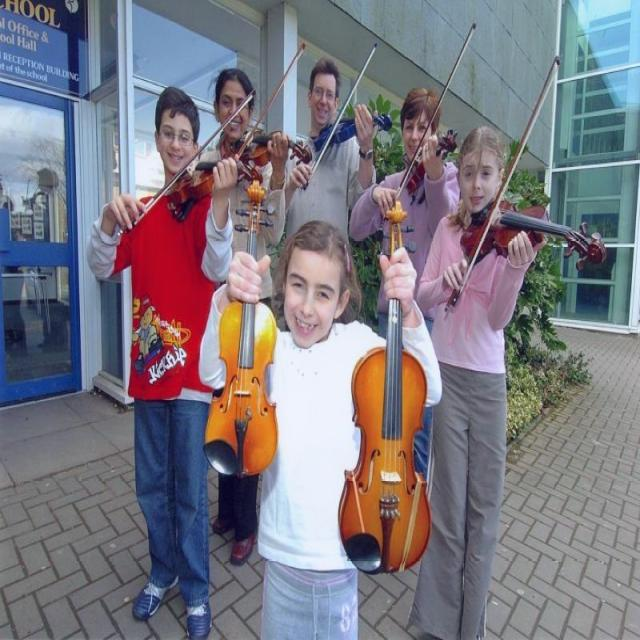violin: (336, 198, 434, 577), (202, 178, 280, 482), (457, 198, 609, 270), (170, 160, 265, 212), (404, 125, 457, 194), (317, 112, 396, 150), (230, 130, 312, 166)
